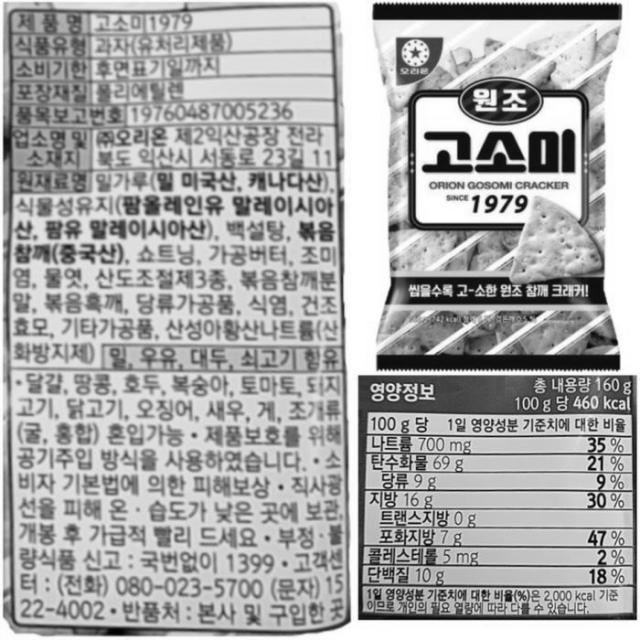Nutrition Label: (351, 364, 640, 625)
